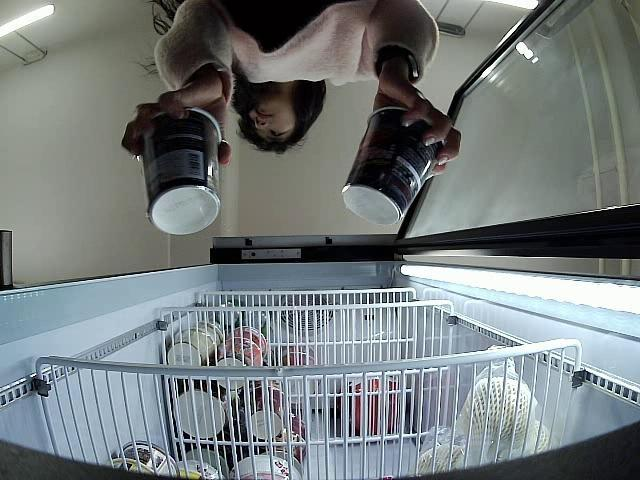08_buldak_S: (340, 108, 436, 226), (139, 108, 222, 236)
